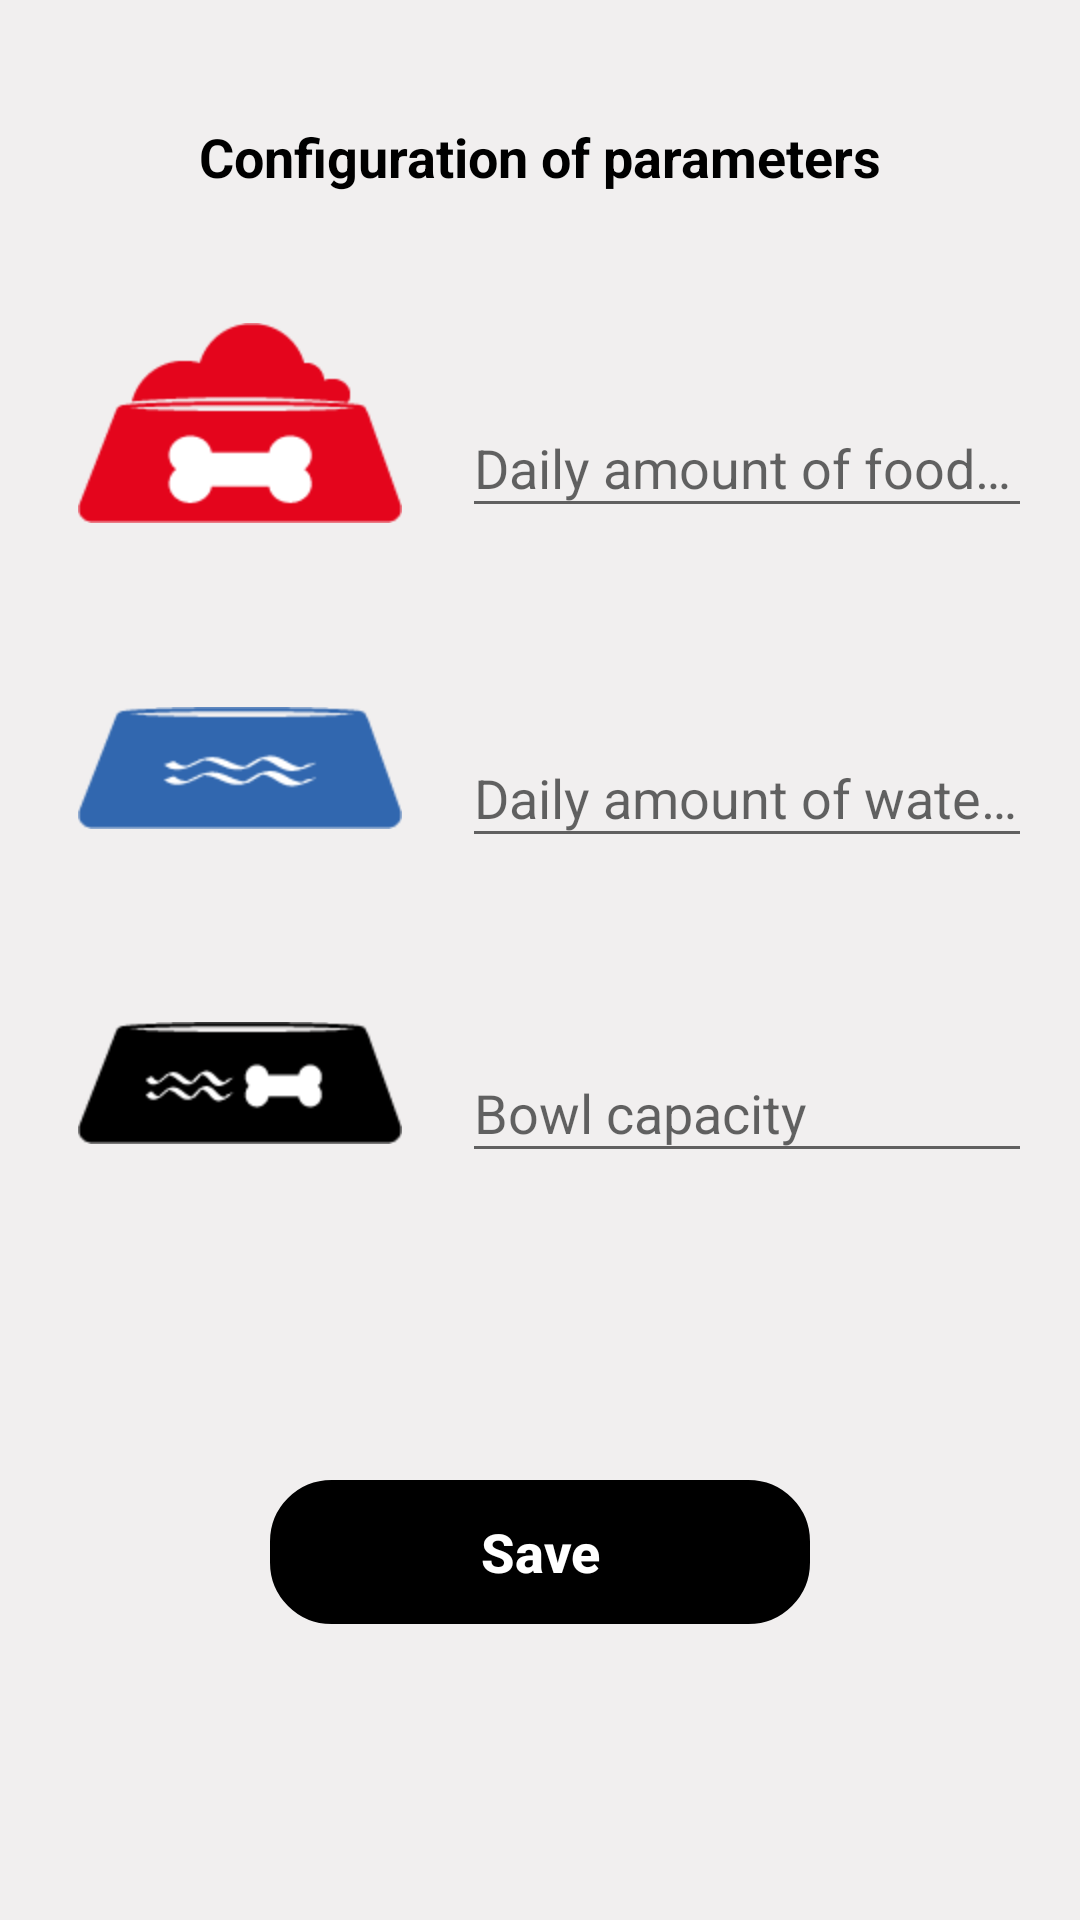

Screen size 1080x1920. Icon name, then its box in pixels as (x1, y1, x2, y2):
bowlboth: (78, 1022, 402, 1144)
bowlfood: (78, 323, 402, 523)
bowlwater: (78, 707, 402, 829)
